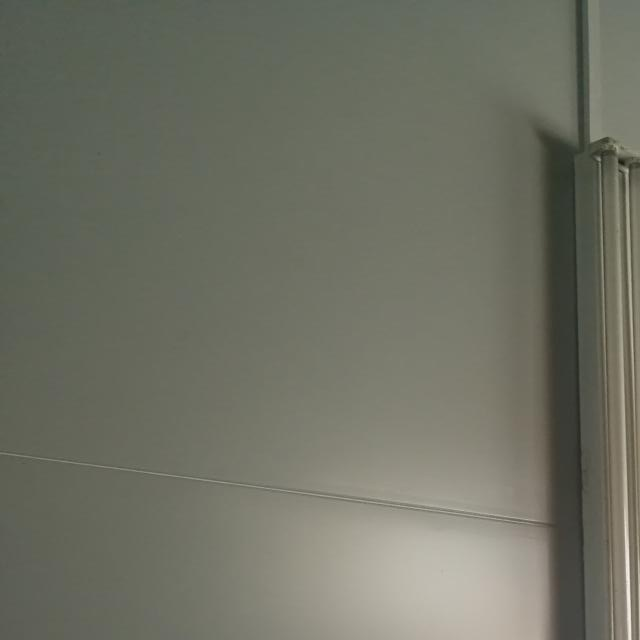fluorescent tube: (542, 127, 640, 640)
